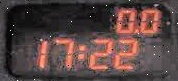-: (132, 27, 139, 32)
0: (139, 8, 158, 33), (115, 9, 133, 33)
1: (37, 40, 47, 68)
2: (87, 38, 112, 69), (112, 38, 136, 69)
7: (52, 38, 74, 67)
X: (76, 44, 84, 59)
